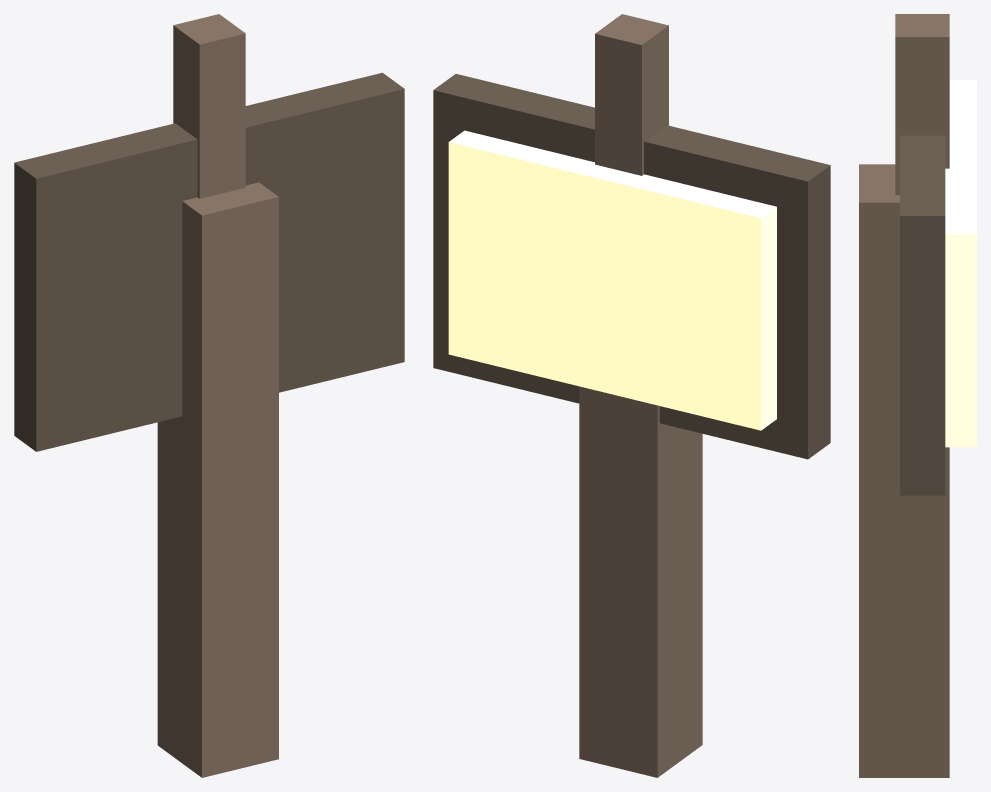
Rendered from road.glb.
3 renders of one model, left to right at view 1: azimuth 30°, elevation 25°; view 2: azimuth 150°, elevation 25°; view 3: azimuth 270°, elevation 25°, orthographic. The views are drawn at different scales.
Parts seen in each view (by area): view 1: road; view 2: road; view 3: road.
Part boxes in pixels (x1,y1,x2,y2): road: (14,14,404,777); road: (433,14,830,777); road: (859,14,976,777).
Bounding box in the file's own units: 0.48 × 0.892 × 0.13.
